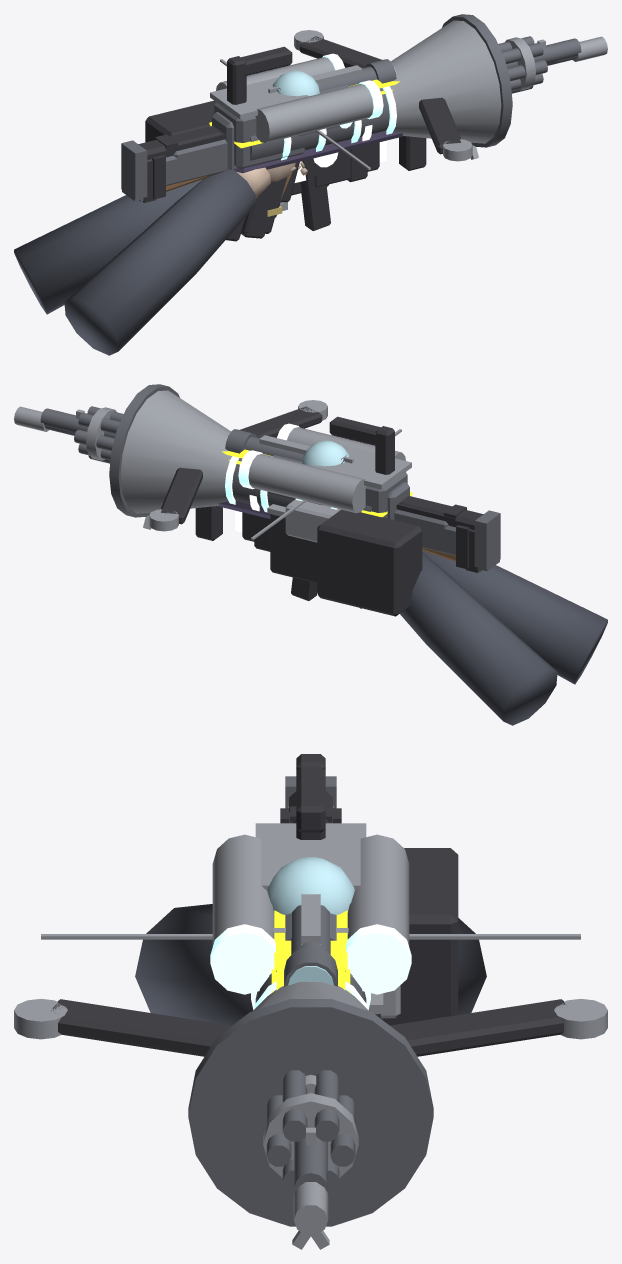
File: guns-66ed52d2.glb
The picture shows the model from 3 angles, top to bottom: view 1: azimuth 30°, elevation 25°; view 2: azimuth 150°, elevation 25°; view 3: azimuth 270°, elevation 25°; orthographic projection. The views are drawn at different scales.
Parts seen in each view (by area): view 1: thunder_GunLight, ArmR_Sleeve, ArmL_Sleeve, thunder_Gun, vulcan_Black, anvil_Black, anvil_Gun, vulcan_Gun, harpoon_Black, vulcan_GunLight, thunder_Blue, stitcher_Black (+12 smaller); view 2: thunder_GunLight, ArmL_Sleeve, vulcan_Black, ArmR_Sleeve, anvil_Black, thunder_Gun, vulcan_GunLight, anvil_Gun, harpoon_Black, vulcan_Gun, harpoon_GunLight, thunder_Blue (+8 smaller); view 3: thunder_Gun, thunder_GunLight, vulcan_Black, harpoon_Black, ArmR_Sleeve, thunder_Blue, harpoon_GunLight, Spin_Gun, vulcan_GunLight, raygun_GunGlass, Spin_GunLight, longbow_Gun (+5 smaller).
Part boxes in pixels (left/top/right/bottom): thunder_GunLight: left=216, top=20, right=501, bottom=143; ArmR_Sleeve: left=64, top=169, right=256, bottom=355; ArmL_Sleeve: left=14, top=179, right=202, bottom=314; thunder_Gun: left=166, top=14, right=512, bottom=185; vulcan_Black: left=145, top=46, right=367, bottom=241; anvil_Black: left=138, top=126, right=426, bottom=233; anvil_Gun: left=121, top=38, right=581, bottom=199; vulcan_Gun: left=173, top=85, right=354, bottom=177; harpoon_Black: left=268, top=36, right=461, bottom=218; vulcan_GunLight: left=210, top=77, right=308, bottom=119; thunder_Blue: left=281, top=53, right=396, bottom=160; stitcher_Black: left=155, top=134, right=330, bottom=230; thunder_GunLight: left=120, top=390, right=405, bottom=513; ArmL_Sleeve: left=400, top=552, right=557, bottom=725; vulcan_Black: left=254, top=416, right=422, bottom=616; ArmR_Sleeve: left=422, top=550, right=607, bottom=684; anvil_Black: left=195, top=496, right=483, bottom=583; thunder_Gun: left=109, top=384, right=455, bottom=555; vulcan_GunLight: left=285, top=447, right=411, bottom=542; anvil_Gun: left=40, top=408, right=500, bottom=569; harpoon_Black: left=160, top=406, right=322, bottom=524; vulcan_Gun: left=267, top=455, right=448, bottom=542; harpoon_GunLight: left=149, top=400, right=401, bottom=540; thunder_Blue: left=225, top=423, right=337, bottom=512; thunder_Gun: left=188, top=973, right=433, bottom=1226; thunder_GunLight: left=212, top=834, right=409, bottom=1010; vulcan_Black: left=296, top=754, right=458, bottom=1025; harpoon_Black: left=51, top=999, right=565, bottom=1056; ArmR_Sleeve: left=135, top=904, right=253, bottom=1025; thunder_Blue: left=210, top=924, right=411, bottom=1009; harpoon_GunLight: left=14, top=934, right=607, bottom=1039; Spin_Gun: left=266, top=1070, right=355, bottom=1191; vulcan_GunLight: left=255, top=823, right=400, bottom=1018; raygun_GunGlass: left=267, top=857, right=354, bottom=914; Spin_GunLight: left=263, top=970, right=358, bottom=1177; longbow_Gun: left=284, top=805, right=337, bottom=986.
Bounding box in the file's own units: 0.9489 × 0.3782 × 0.484.
